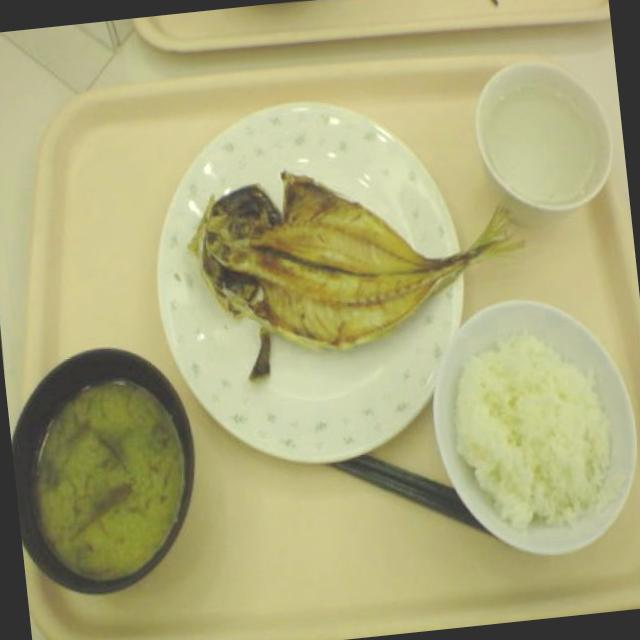Rice: (458, 334, 608, 512)
